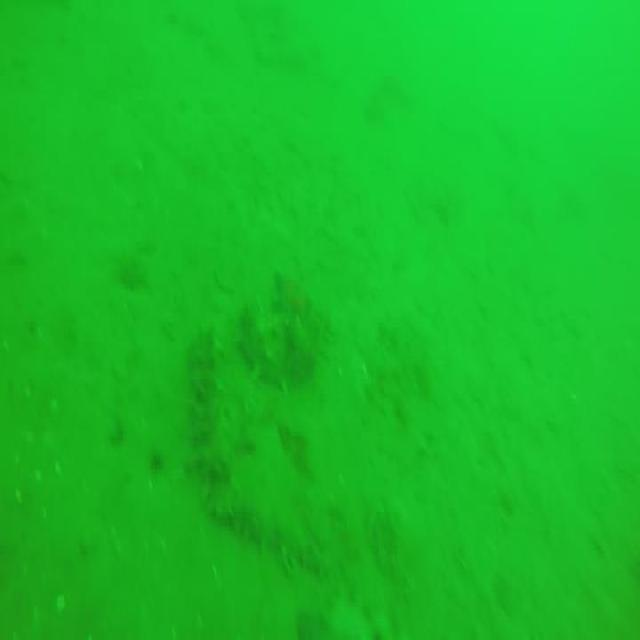holothurian: (212, 495, 322, 580), (191, 321, 237, 474), (236, 296, 292, 386)
